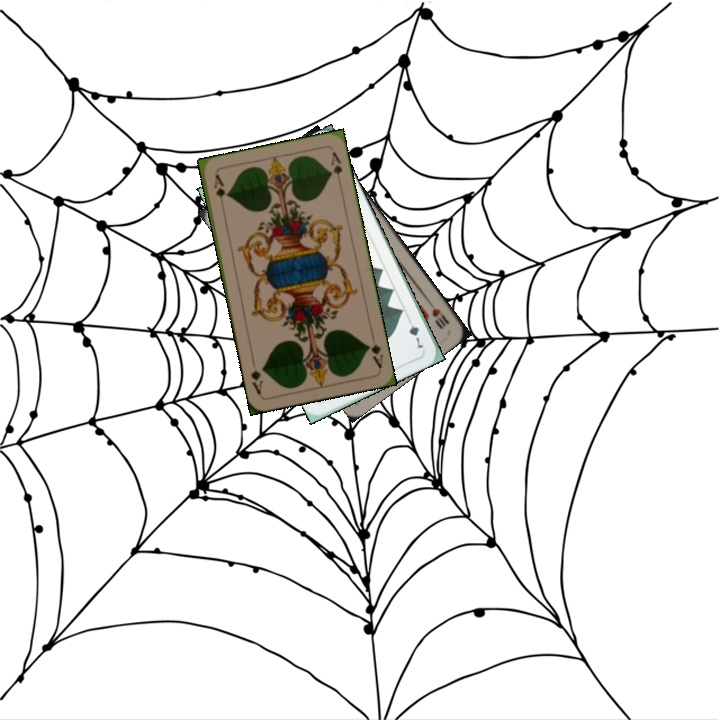G7: (403, 313, 426, 351)
GA: (363, 331, 385, 371), (209, 171, 228, 211)
H10: (428, 304, 452, 331)
